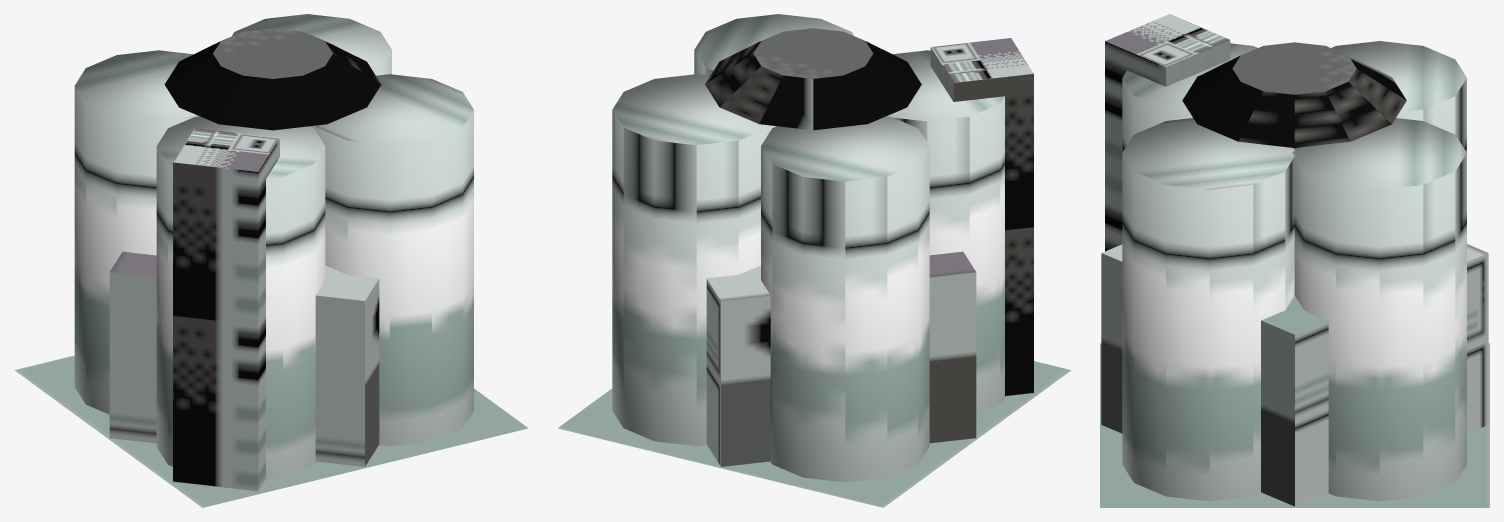
File: BLD_Oil_Refinery_Target01.fbx
3 views of the same model, side by side, from view 1: azimuth 30°, elevation 25°; view 2: azimuth 150°, elevation 25°; view 3: azimuth 270°, elevation 25° (orthographic). The views are drawn at different scales.
Visible parts, largest first — view 1: BLD_OilRefinery_Target01; view 2: BLD_OilRefinery_Target01; view 3: BLD_OilRefinery_Target01.
Boxes of the visible parts, x1,y1,x2,y2 form: BLD_OilRefinery_Target01: (14,14,528,507); BLD_OilRefinery_Target01: (557,14,1071,507); BLD_OilRefinery_Target01: (1100,14,1489,507).
Bounding box in the file's own units: 801 × 801 × 814.
